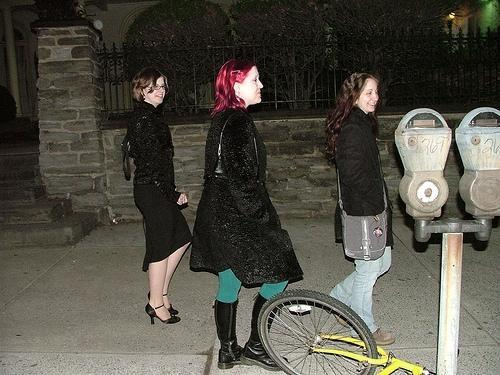bicycle: (257, 289, 431, 375)
